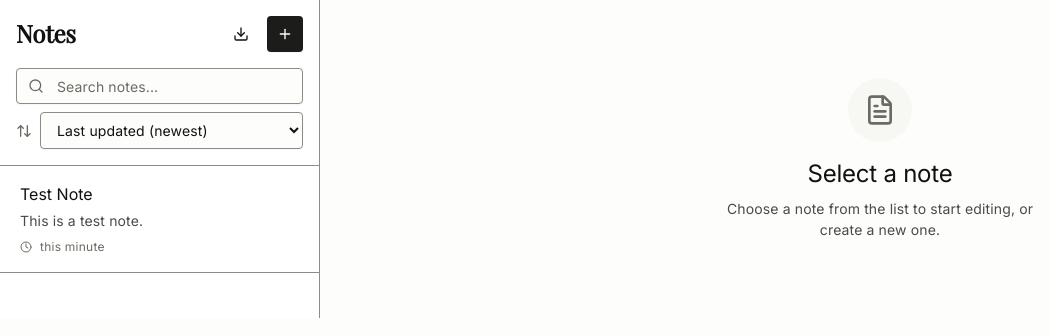
NotesView Search › shows clear button when typing and clears input on click
The width and height of the screenshot is (1050, 335).
// Type something
Type "Note" into the search field with placeholder "Search notes...".
click(160, 86); type("Note")  # box [16,68,303,104]
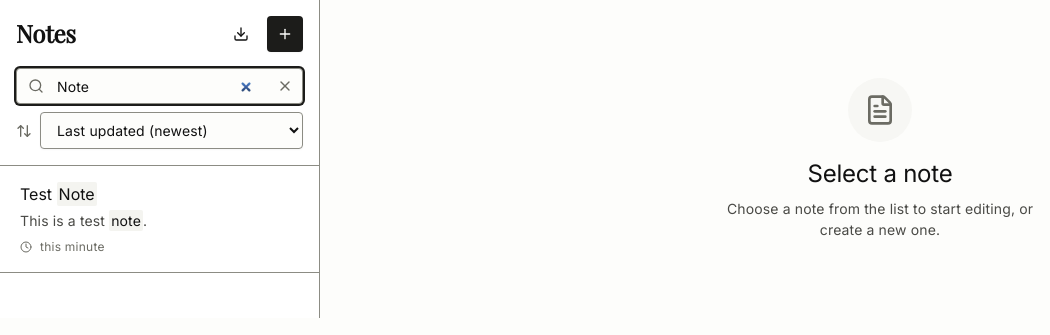
Check: the button named "Clear search" is shown
// Click clear button
Click the button named "Clear search".
click(285, 86)  # box [267,68,303,104]
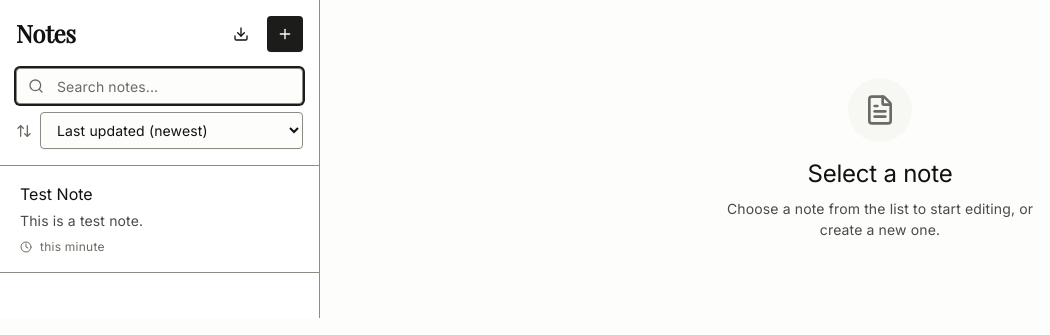
Check: the search field with placeholder "Search notes..." is empty, box [16,68,303,104]
